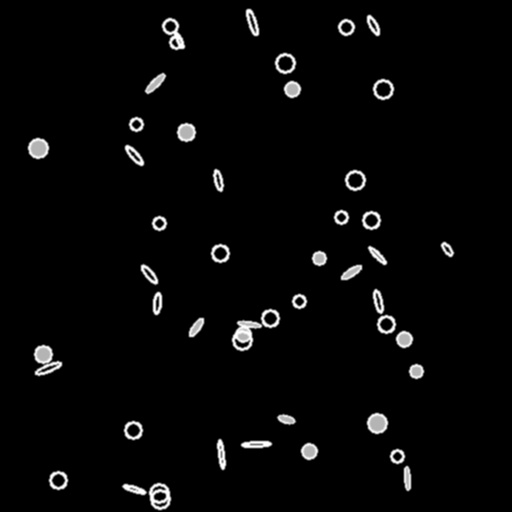pseudomonas: (123, 144, 145, 166), (144, 72, 166, 94), (139, 263, 159, 285), (339, 263, 363, 281), (35, 360, 61, 376), (367, 245, 387, 265), (245, 9, 259, 35), (187, 317, 205, 337), (365, 15, 381, 35), (372, 290, 384, 312), (123, 483, 145, 495), (217, 439, 225, 469), (440, 241, 454, 257), (213, 169, 223, 191), (277, 413, 295, 425), (152, 293, 162, 313), (237, 320, 261, 328), (173, 32, 185, 48), (242, 441, 270, 447), (404, 466, 410, 490)
synechocystis: (346, 171, 364, 189), (151, 490, 169, 508), (374, 80, 392, 98), (29, 139, 47, 157), (276, 54, 294, 72), (150, 484, 168, 502), (233, 331, 251, 349), (368, 414, 386, 432), (178, 124, 194, 140), (262, 310, 278, 326), (378, 316, 394, 332), (125, 422, 141, 438), (363, 212, 379, 228), (35, 346, 51, 362), (50, 472, 66, 488), (212, 245, 228, 261), (339, 20, 353, 34), (163, 19, 177, 33), (397, 332, 411, 346), (236, 327, 250, 341), (302, 444, 316, 458), (285, 82, 299, 96), (391, 450, 403, 462), (293, 295, 305, 307), (153, 217, 165, 229), (313, 252, 325, 264), (335, 211, 347, 223), (130, 118, 142, 130), (410, 365, 422, 377), (170, 36, 182, 48)
